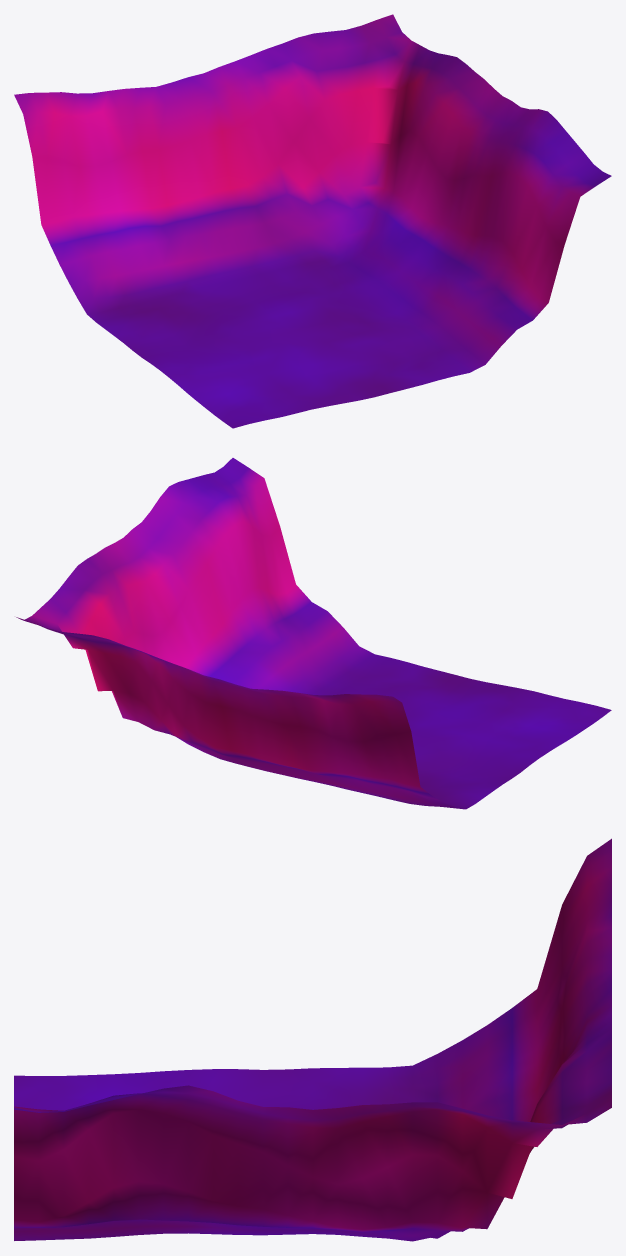
Rendered from ground_05.glb.
3 renders of one model, top to bottom at view 1: azimuth 30°, elevation 25°; view 2: azimuth 150°, elevation 25°; view 3: azimuth 270°, elevation 25°, orthographic. The views are drawn at different scales.
Visible parts, largest first — view 1: Ground_05; view 2: Ground_05; view 3: Ground_05.
Part boxes in pixels (x1,y1,x2,y2): Ground_05: (14,14,611,428); Ground_05: (16,458,611,809); Ground_05: (14,838,611,1241).
Size of what is drawn, in the model's own units: 24 by 10.96 by 24.
